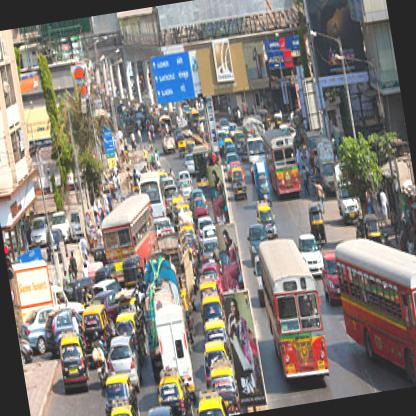bus: (331, 225, 415, 394), (254, 233, 329, 390), (98, 191, 166, 291), (260, 126, 302, 202)
car: (104, 334, 142, 396), (20, 307, 66, 357), (296, 232, 324, 278), (48, 210, 70, 245), (26, 218, 51, 247)
truck: (152, 302, 196, 404)
